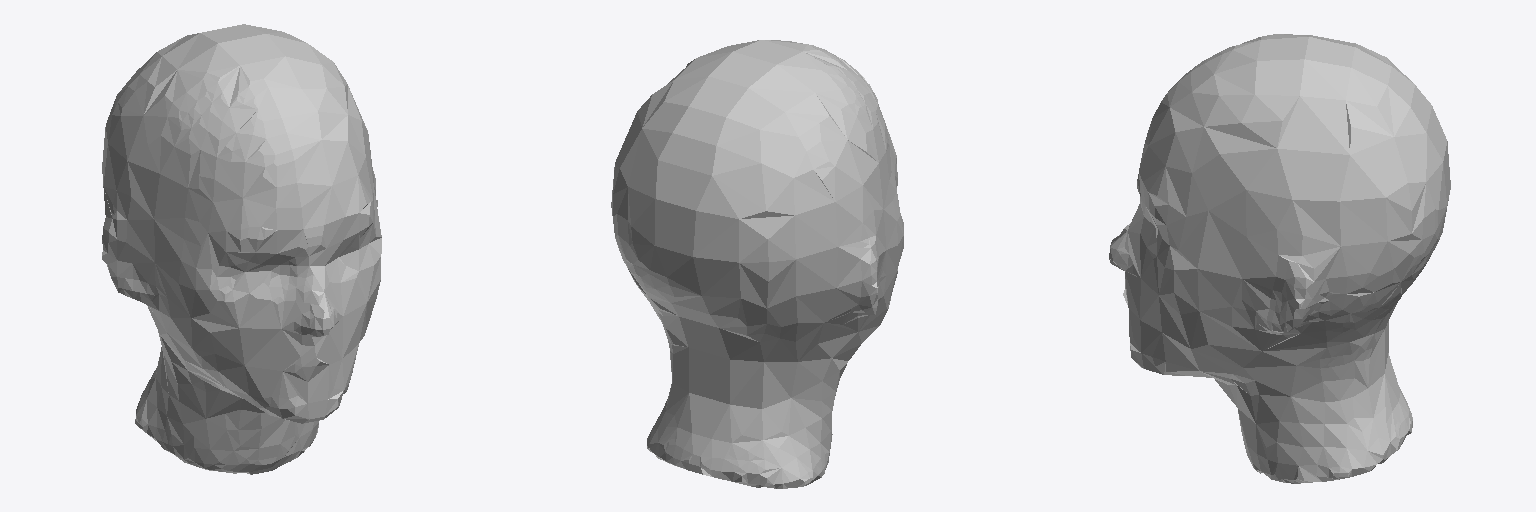
The model's file is head.obj.
3 views of the same model, side by side, from view 1: azimuth 30°, elevation 25°; view 2: azimuth 150°, elevation 25°; view 3: azimuth 270°, elevation 25° (orthographic).
Parts seen in each view (by area): view 1: 11091_FemaleHead_v4; view 2: 11091_FemaleHead_v4; view 3: 11091_FemaleHead_v4.
Part boxes in pixels (bbox=[...]): 11091_FemaleHead_v4: bbox=[102, 24, 381, 474]; 11091_FemaleHead_v4: bbox=[611, 40, 903, 488]; 11091_FemaleHead_v4: bbox=[1109, 34, 1450, 483].
Bounding box in the file's own units: 12.6 × 19 × 14.17.